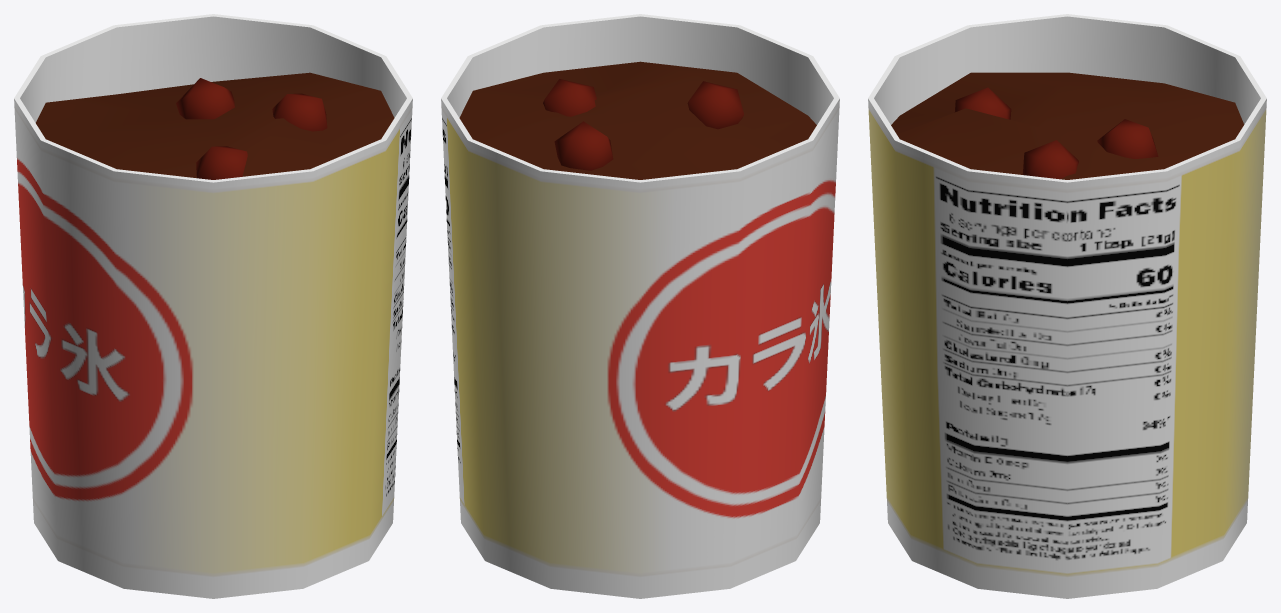
File: boba_ice_cup.obj
3 views of the same model, side by side, from view 1: azimuth 30°, elevation 25°; view 2: azimuth 150°, elevation 25°; view 3: azimuth 270°, elevation 25° (orthographic).
Parts seen in each view (by area): view 1: Container, Boba0, Boba2, Boba1; view 2: Container, Boba0, Boba1, Boba2; view 3: Container, Boba0, Boba2, Boba1.
Boxes of the visible parts, x1,y1,x2,y2 form: Container: (14, 14, 412, 598); Boba0: (176, 78, 234, 119); Boba2: (272, 93, 327, 131); Boba1: (196, 146, 247, 179); Container: (441, 14, 839, 598); Boba0: (554, 121, 613, 170); Boba1: (687, 81, 743, 129); Boba2: (543, 79, 596, 116); Container: (868, 14, 1266, 598); Boba0: (1097, 119, 1158, 158); Boba2: (1022, 140, 1078, 179); Boba1: (954, 87, 1011, 119).
Size of the model in its own units: 2 by 2.35 by 2.
Materials: 5 (1 with a texture image).
